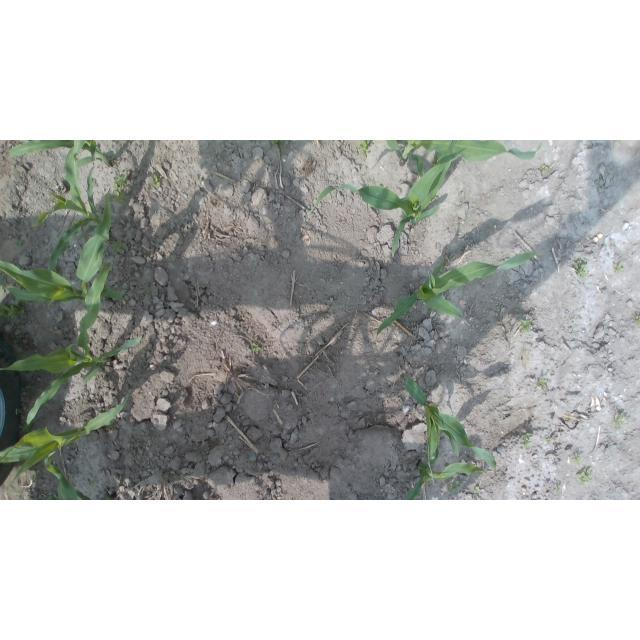Maize: (1, 258, 144, 421), (307, 140, 464, 256), (0, 387, 132, 500), (0, 187, 124, 305), (377, 250, 540, 335), (28, 140, 103, 274), (405, 376, 498, 483), (387, 140, 546, 181), (408, 462, 488, 500), (9, 140, 112, 168)
Weeds: (0, 299, 24, 320), (113, 183, 129, 205), (576, 466, 592, 486), (357, 140, 373, 158), (573, 260, 588, 277), (614, 412, 629, 428), (111, 240, 127, 253), (520, 433, 533, 449), (430, 153, 443, 168), (0, 271, 8, 295), (114, 174, 127, 187), (570, 453, 584, 465), (149, 173, 161, 187), (520, 319, 532, 331), (270, 141, 289, 148), (613, 263, 625, 274), (251, 341, 261, 352), (537, 377, 547, 388), (454, 481, 460, 495), (447, 479, 453, 493), (538, 164, 548, 172), (90, 477, 97, 487), (635, 315, 640, 326), (475, 487, 482, 494), (545, 438, 552, 445), (572, 314, 577, 322), (555, 488, 562, 493), (434, 195, 439, 202), (17, 240, 25, 244), (214, 149, 219, 155)
